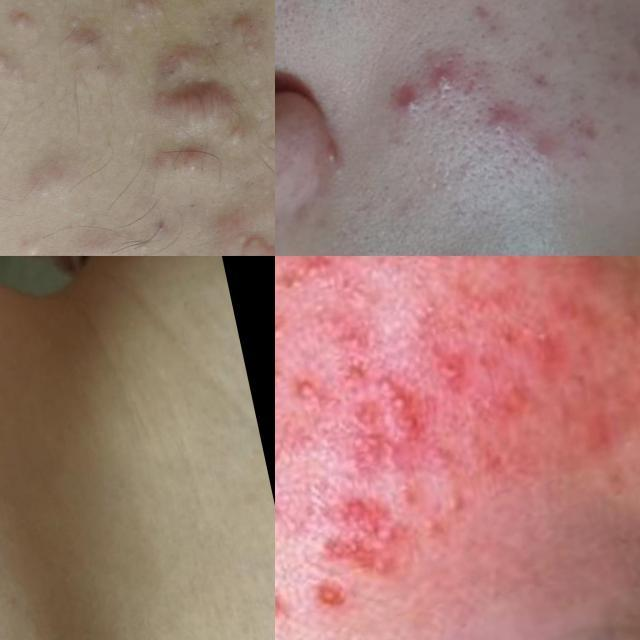Pimples: (148, 72, 245, 144), (312, 487, 396, 545), (413, 40, 478, 110), (516, 113, 574, 175), (475, 97, 525, 156), (370, 360, 420, 419), (374, 71, 424, 127), (296, 574, 347, 620), (284, 363, 331, 408), (533, 310, 569, 350), (230, 225, 276, 256)
